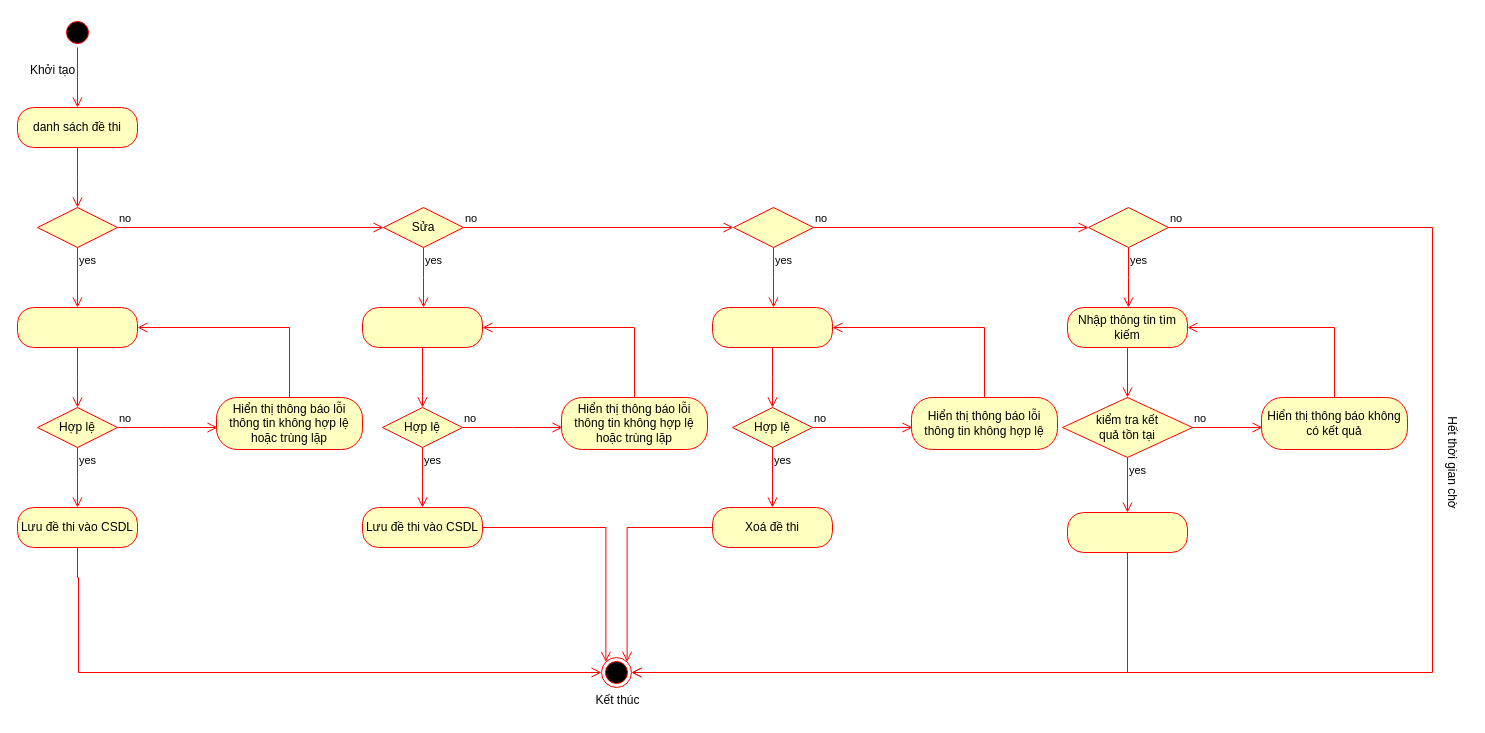
This 1485x733 diagram has some shape labels left out. The centre of each missing label's shape, as x and y in pixels:
"Chọn đề thi muốn xoá" belongs at [772,327].
"Hiển thị danh sách kết quả" belongs at [1127,532].
"Nhập thông tin đề thi" belongs at [77,327].
"Sửa đổi thông tin đề thi" belongs at [422,327].
"Thêm" belongs at [77,227].
"Tìm kiếm" belongs at [1128,227].
"Xoá" belongs at [773,227].
